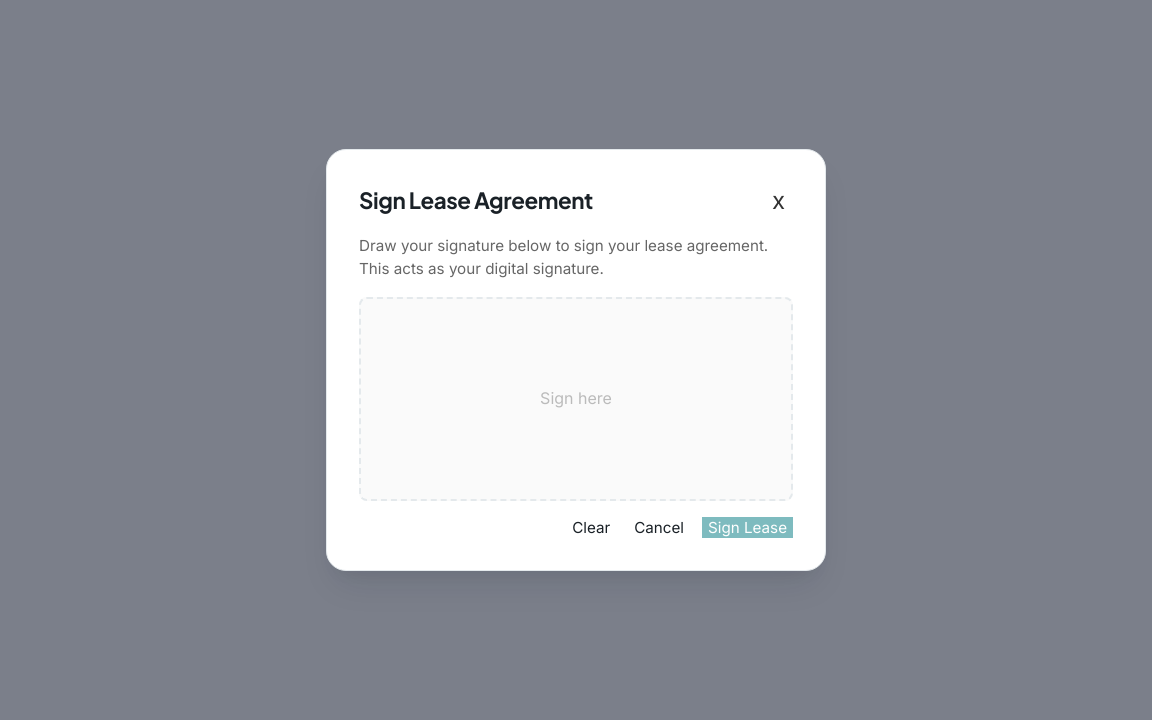
Scenario: SignaturePad › enables sign button after drawing
Press the mouse on the drawing at (576, 399), box left=361, top=299, right=791, bottom=499
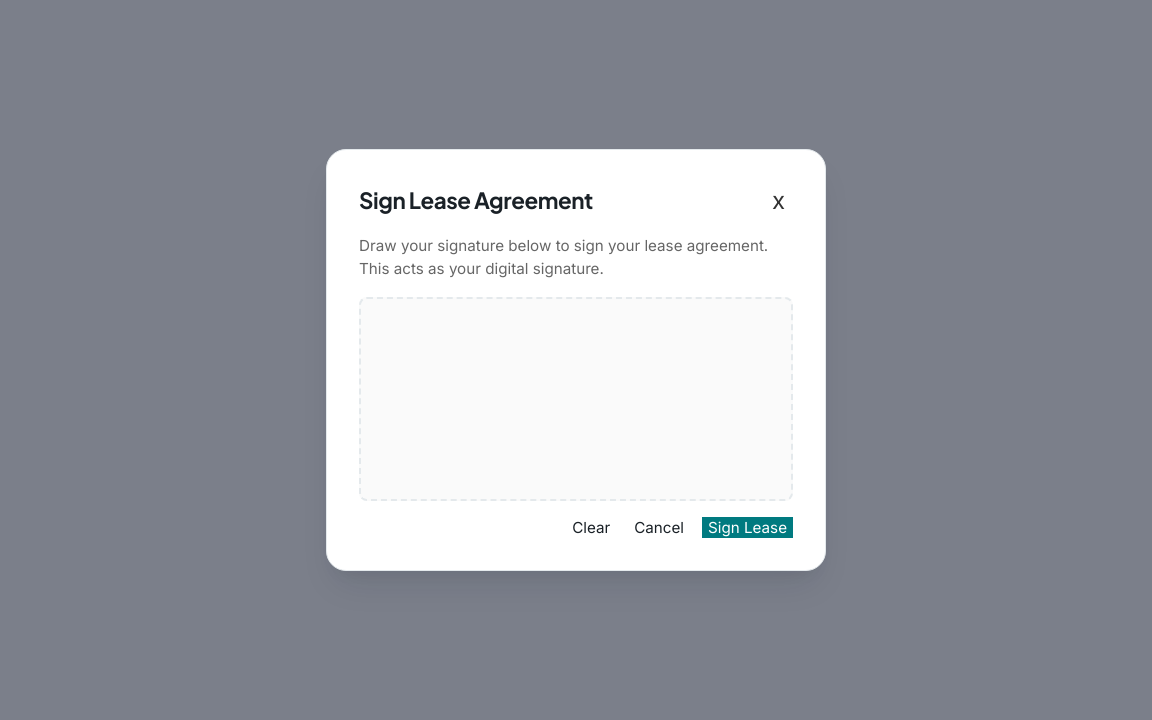
expect the button "Sign Lease" is enabled: met, box left=702, top=517, right=793, bottom=538
